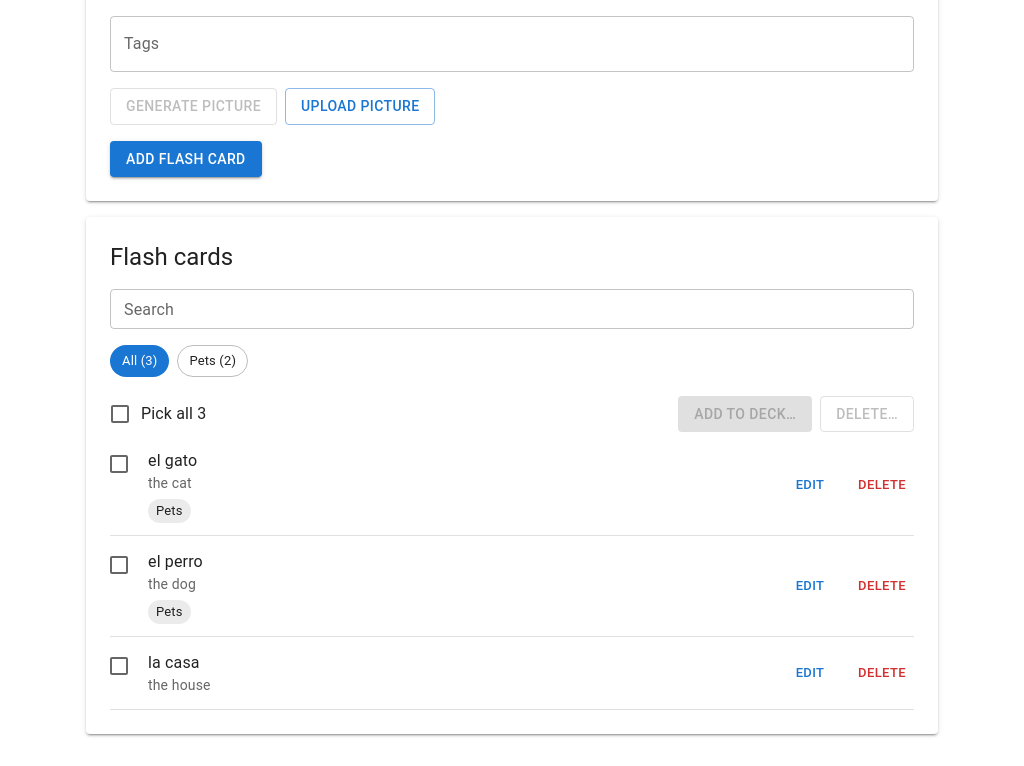
Scenario: deleting the cards picked › deletes nothing when the user cancels
(page scrolled)
Expected: the text "el gato" is shown, left=148, top=451, right=197, bottom=470
Click the checkbox named "Pick \"el gato\"".
click(173, 487)  # box left=148, top=451, right=197, bottom=523
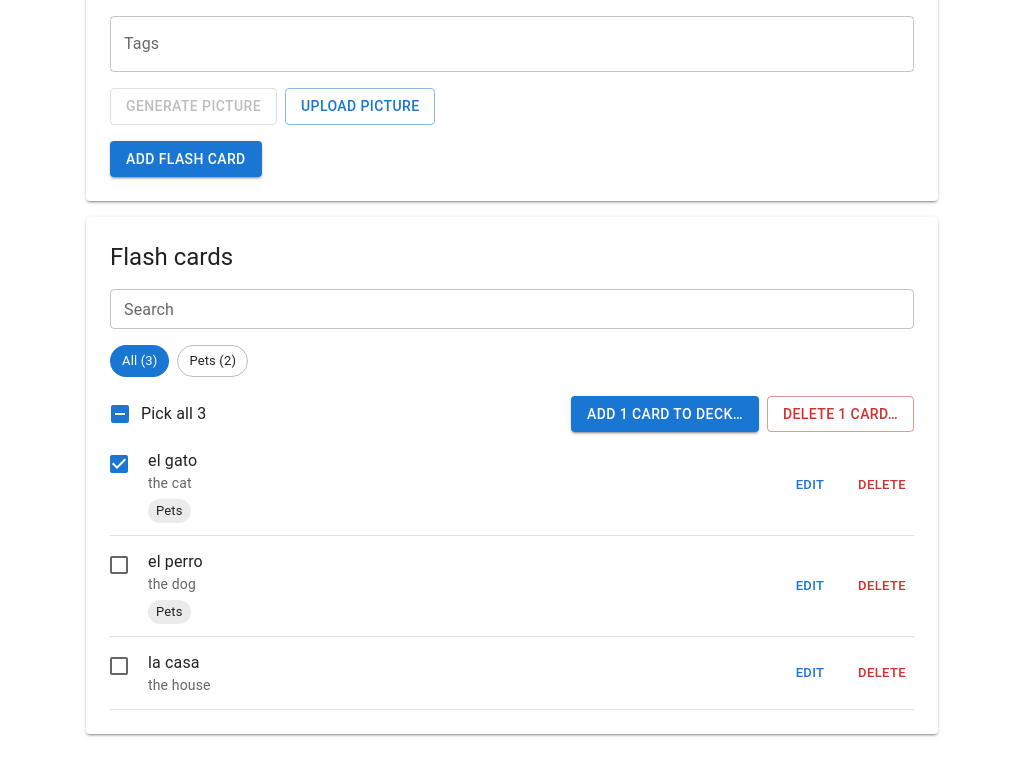
Click the button "Delete 1 card…".
click(840, 414)  # box left=767, top=396, right=914, bottom=432
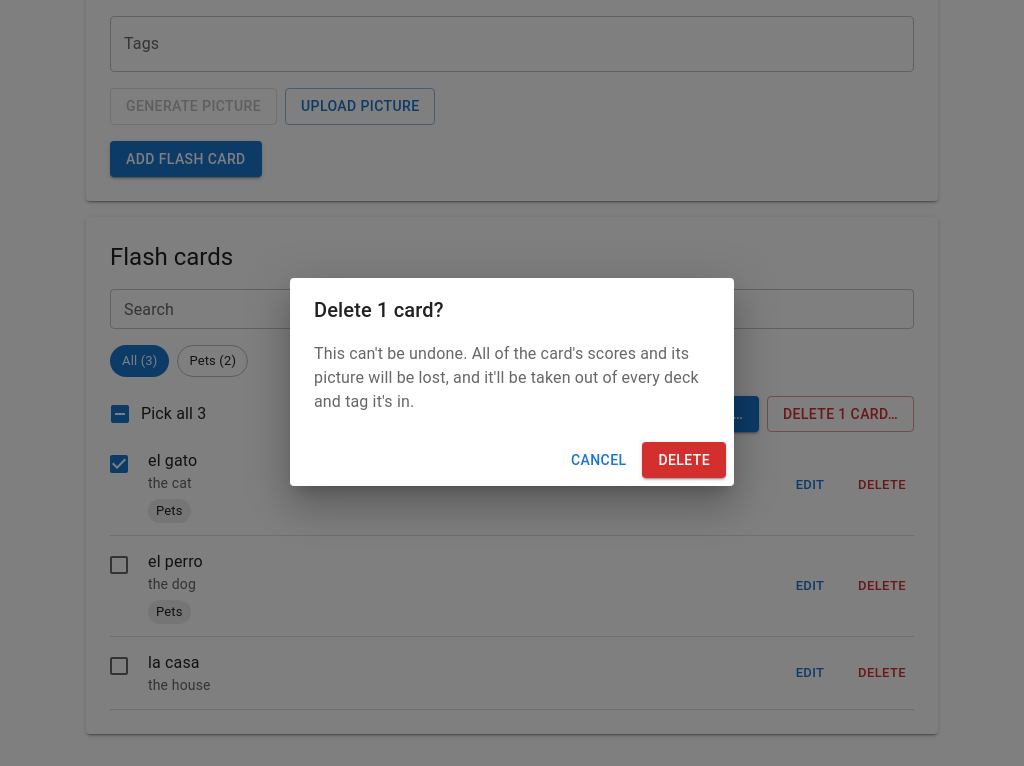
Click the button "Cancel".
click(599, 460)  # box left=563, top=442, right=634, bottom=478
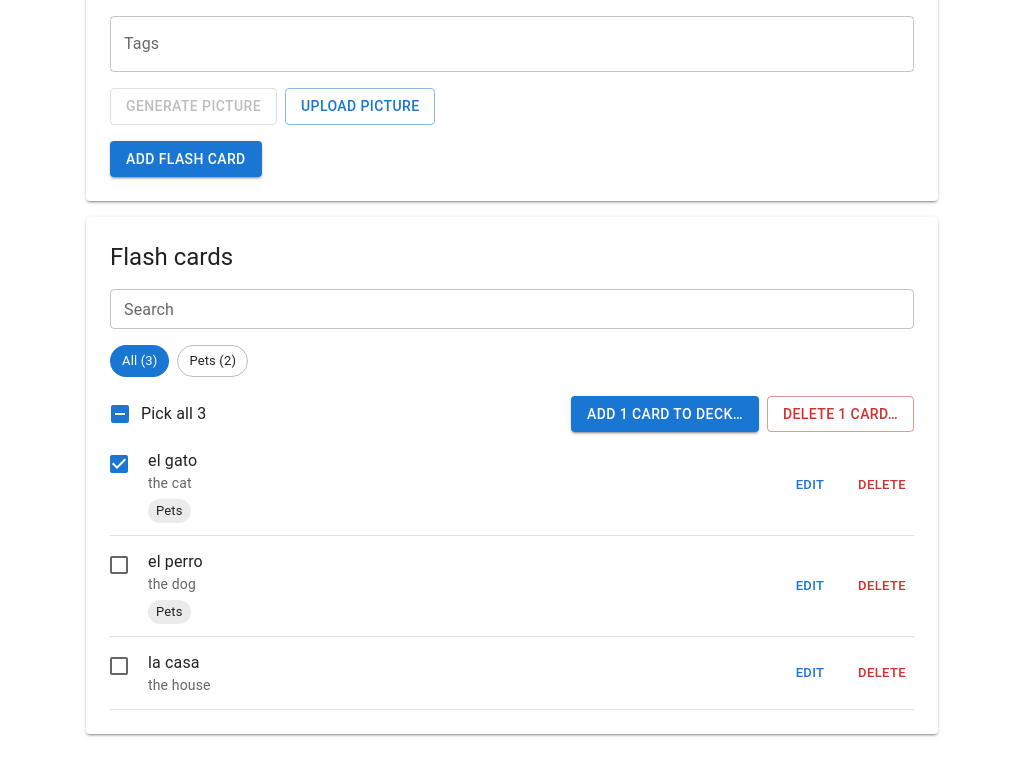
Expected: the text "el gato" is shown, left=148, top=451, right=197, bottom=470
Now the checkbox named "Pick \"el gato\"" is checked, box left=148, top=451, right=197, bottom=523
Now the dialog is gone
